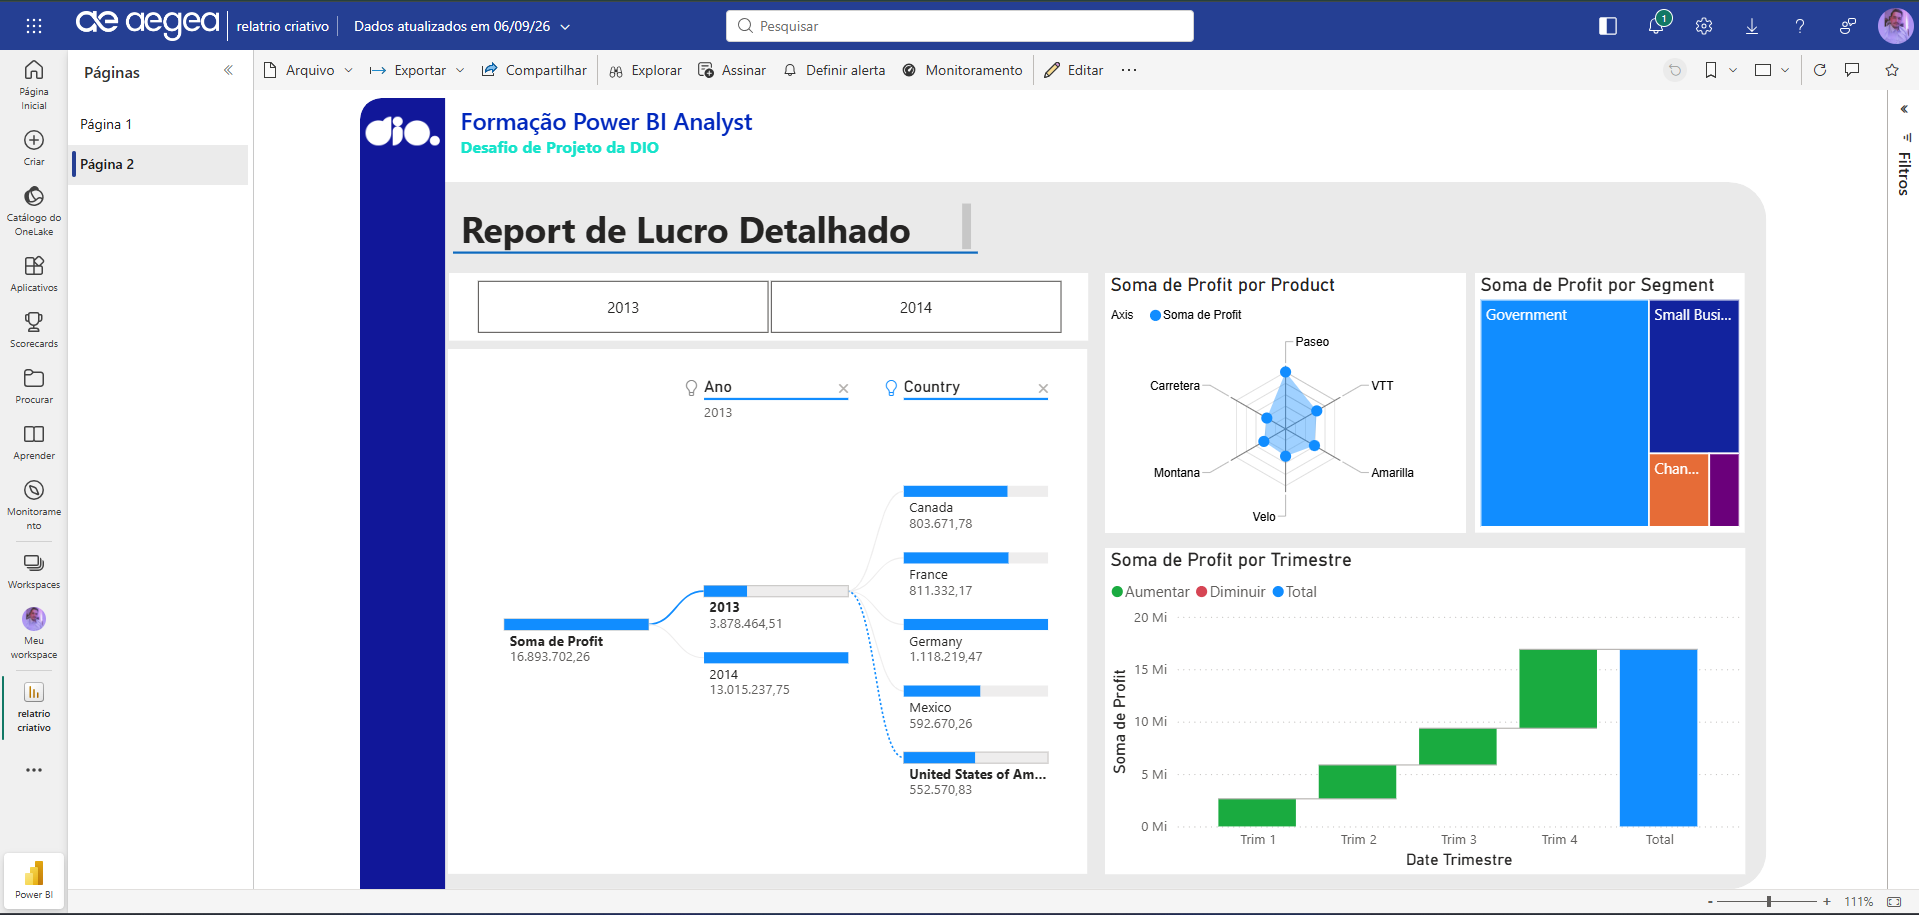

What the dashboard file says about the page in this screenshot:
{"tool":"powerbi","page":{"name":"Página 2","canvas":[1280,720],"ordinal":1},"visuals":[{"type":"shape","box":[42.6,82.5,1225.1,637.5],"z":0},{"type":"shape","box":[83.9,127.8,473,37.1],"z":0,"group":"g1"},{"type":"shape","title":"Fundo do Título","box":[0,0,1267.7,82.5],"z":1000},{"type":"textbox","box":[85.3,97.6,470.2,52.2],"z":1000,"group":"g1"},{"type":"shape","box":[79.7,233.7,576.1,473],"z":2000},{"type":"decompositionTreeVisual","fields":{"Analyze":["Sum(financials.Profit)"],"ExplainBy":["financials.Date.Variation.Hierarquia de datas.Ano","financials.Country"]},"box":[99.8,242.2,536.3,456.5],"z":3000},{"type":"waterfallChart","fields":{"Category":["financials.Date.Variation.Hierarquia de datas.Trimestre"],"Y":["Sum(financials.Profit)"]},"box":[670.9,412.5,577.4,294.2],"z":4000},{"type":"treemap","fields":{"Group":["financials.Segment"],"Values":["Sum(financials.Profit)"]},"box":[1005,165,243.4,233.7],"z":5000},{"type":"actionButton","box":[22,666.8,48.1,39.9],"z":6000},{"type":"group","id":"g1","title":"Sales report","box":[83.9,97.6,473,67.4],"z":7000},{"type":"actionButton","box":[12.8,545.8,57,105.5],"z":8000},{"type":"RadarChart1446119667547","fields":{"Y":["Sum(financials.Profit)"],"Category":["financials.Product"]},"box":[671,165,324.6,234],"z":9000},{"type":"slicer","fields":{"Values":["financials.Year"]},"box":[79.8,165,575.8,60.8],"z":10000},{"type":"shape","box":[0,7,77,713],"z":11000},{"type":"image","title":"logo_dio","box":[0.3,0,77,74],"z":12000},{"type":"textbox","box":[85.2,8.2,366,74],"z":13000}]}

Visuals, with their boxes on the page's 1280x720 design canvas (x1, y1, x2, y2). These are canvas units, not pixel positions in the 1919x915 screenshot, which may show the page scaled, cropped or inside an application window:
shape: [x1=43, y1=82, x2=1268, y2=720]
shape: [x1=84, y1=128, x2=557, y2=165]
"Fundo do Título" shape: [x1=0, y1=0, x2=1268, y2=82]
textbox: [x1=85, y1=98, x2=556, y2=150]
shape: [x1=80, y1=234, x2=656, y2=707]
decompositionTreeVisual - Sum(financials.Profit) x financials.Date.Variation.Hierarquia de datas.Ano: [x1=100, y1=242, x2=636, y2=699]
waterfallChart - financials.Date.Variation.Hierarquia de datas.Trimestre x Sum(financials.Profit): [x1=671, y1=412, x2=1248, y2=707]
treemap - financials.Segment x Sum(financials.Profit): [x1=1005, y1=165, x2=1248, y2=399]
actionButton: [x1=22, y1=667, x2=70, y2=707]
"Sales report" group: [x1=84, y1=98, x2=557, y2=165]
actionButton: [x1=13, y1=546, x2=70, y2=651]
RadarChart1446119667547 - Sum(financials.Profit) x financials.Product: [x1=671, y1=165, x2=996, y2=399]
slicer - financials.Year: [x1=80, y1=165, x2=656, y2=226]
shape: [x1=0, y1=7, x2=77, y2=720]
"logo_dio" image: [x1=0, y1=0, x2=77, y2=74]
textbox: [x1=85, y1=8, x2=451, y2=82]
